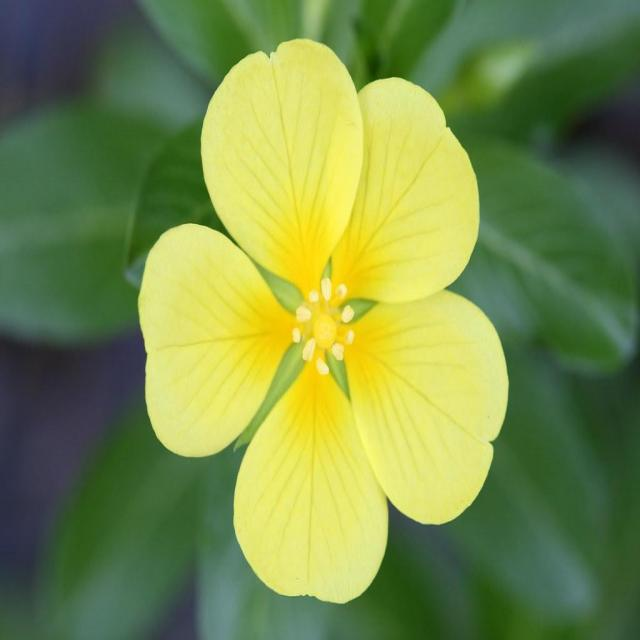organic waste: (142, 33, 510, 606)
